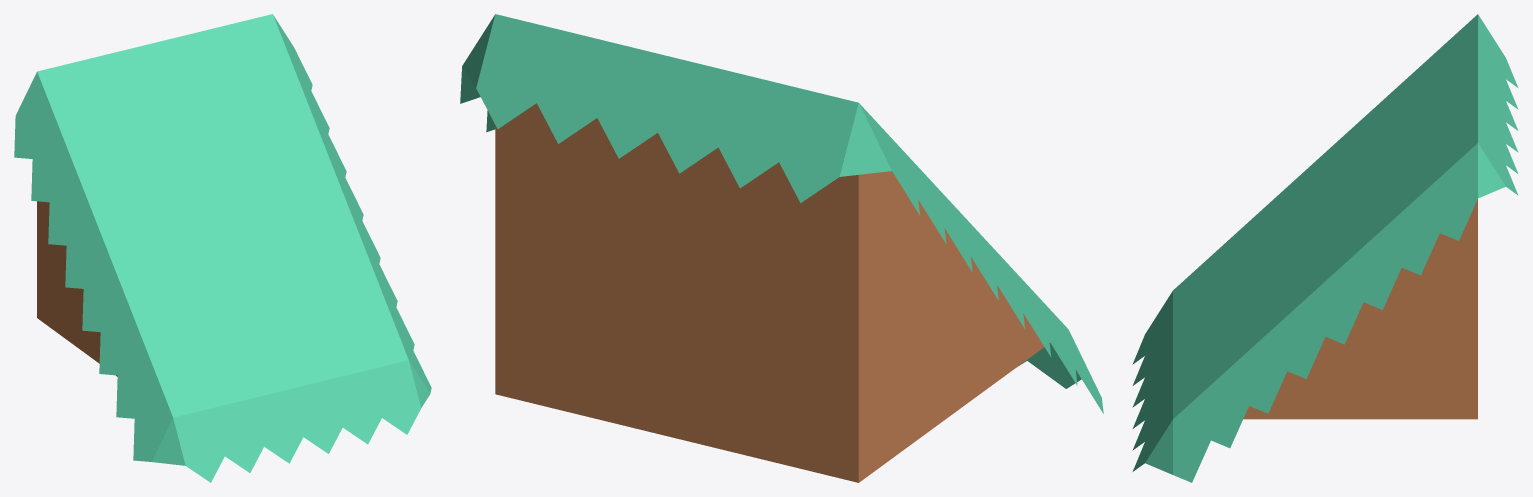
Rendered from blockSlope.fbx.
3 views of the same model, side by side, from view 1: azimuth 30°, elevation 25°; view 2: azimuth 150°, elevation 25°; view 3: azimuth 270°, elevation 25° (orthographic). The views are drawn at different scales.
Visible parts, largest first — view 1: blockSlope; view 2: blockSlope; view 3: blockSlope.
Part boxes in pixels (box(x1,y1,x2,y2)): blockSlope: box(14, 14, 431, 482); blockSlope: box(460, 14, 1103, 482); blockSlope: box(1132, 14, 1518, 482).
Bounding box in the file's own units: 12.66 × 12.3 × 12.66.
